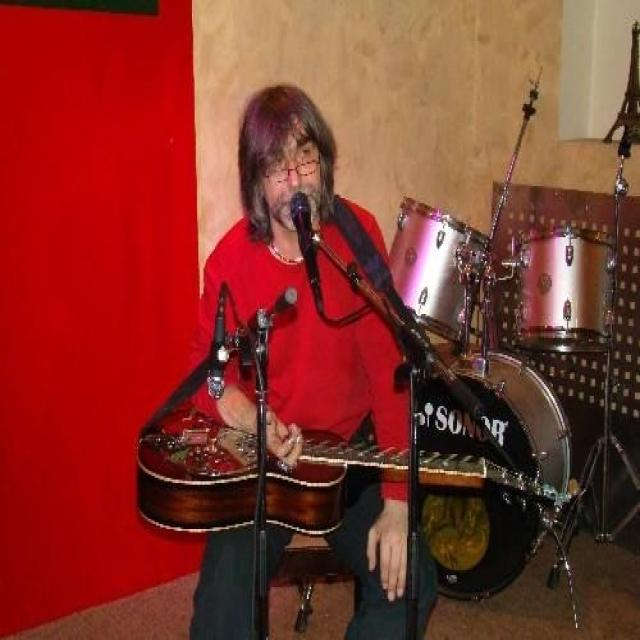drums: (383, 194, 639, 640)
guitar: (131, 418, 578, 532)
